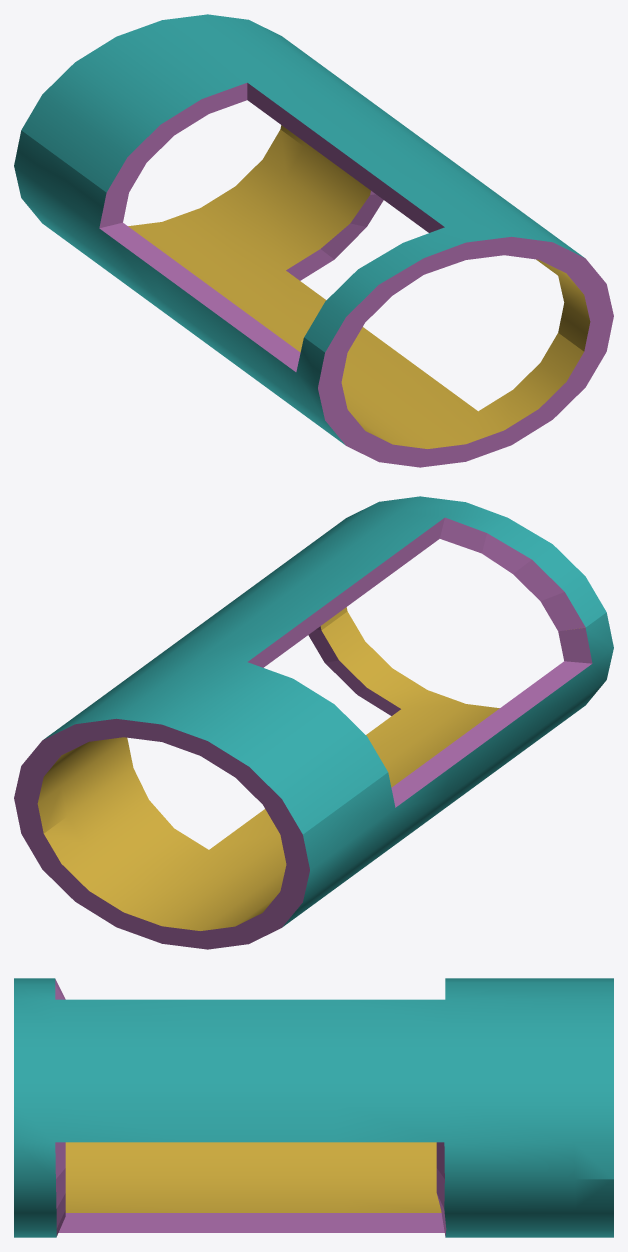
The model's file is Arbol_hoyos3.fbx.
The picture shows the model from 3 angles, top to bottom: view 1: azimuth 30°, elevation 25°; view 2: azimuth 150°, elevation 25°; view 3: azimuth 270°, elevation 25°; orthographic projection.
Parts seen in each view (by area): view 1: Resbaladilla_9; view 2: Resbaladilla_9; view 3: Resbaladilla_9.
Boxes of the visible parts, left/top/right/bottom form: Resbaladilla_9: left=14, top=14, right=613, bottom=467; Resbaladilla_9: left=14, top=496, right=613, bottom=949; Resbaladilla_9: left=14, top=978, right=613, bottom=1237.
Bounding box in the file's own units: 34.05 × 24.09 × 60.51.
